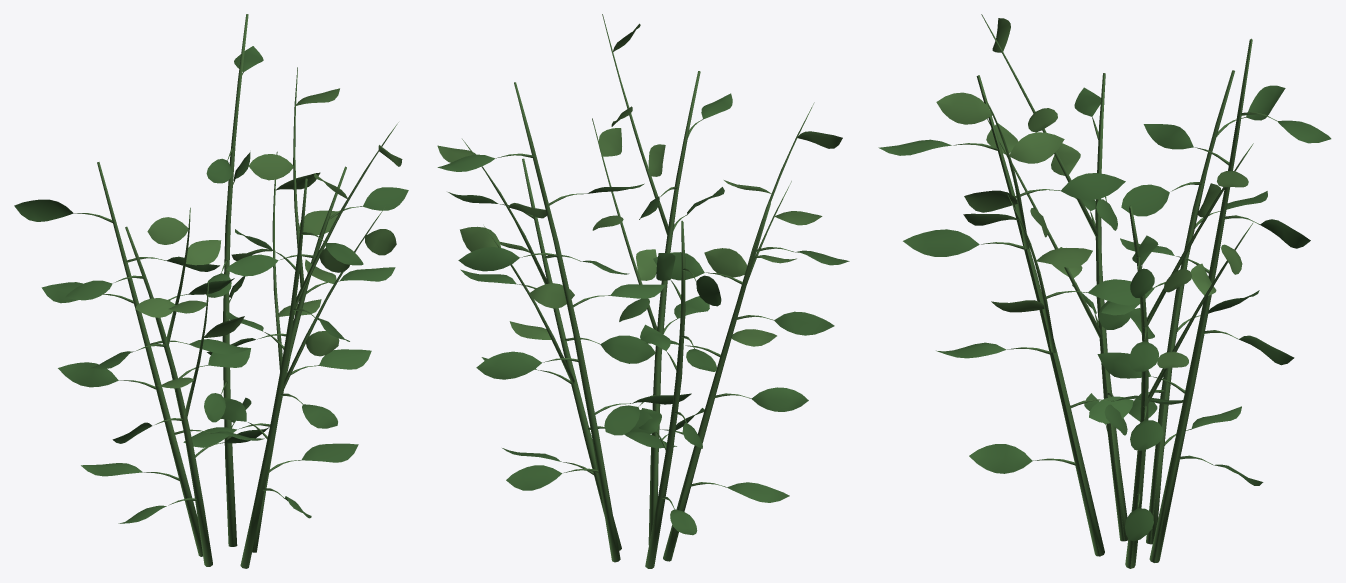
File: Fragon_0_Niveau0.fbx
The picture shows the model from 3 angles, left to right: view 1: azimuth 30°, elevation 25°; view 2: azimuth 150°, elevation 25°; view 3: azimuth 270°, elevation 25°; orthographic projection. The views are drawn at different scales.
Visible parts, largest first — view 1: Fragon_0_Niveau0; view 2: Fragon_0_Niveau0; view 3: Fragon_0_Niveau0.
Boxes of the visible parts, box(x1,y1,x2,y2) form: Fragon_0_Niveau0: box(14, 14, 408, 568); Fragon_0_Niveau0: box(437, 14, 849, 568); Fragon_0_Niveau0: box(878, 14, 1331, 568).
Size of the model in its own units: 31.8 by 40.04 by 29.69.
